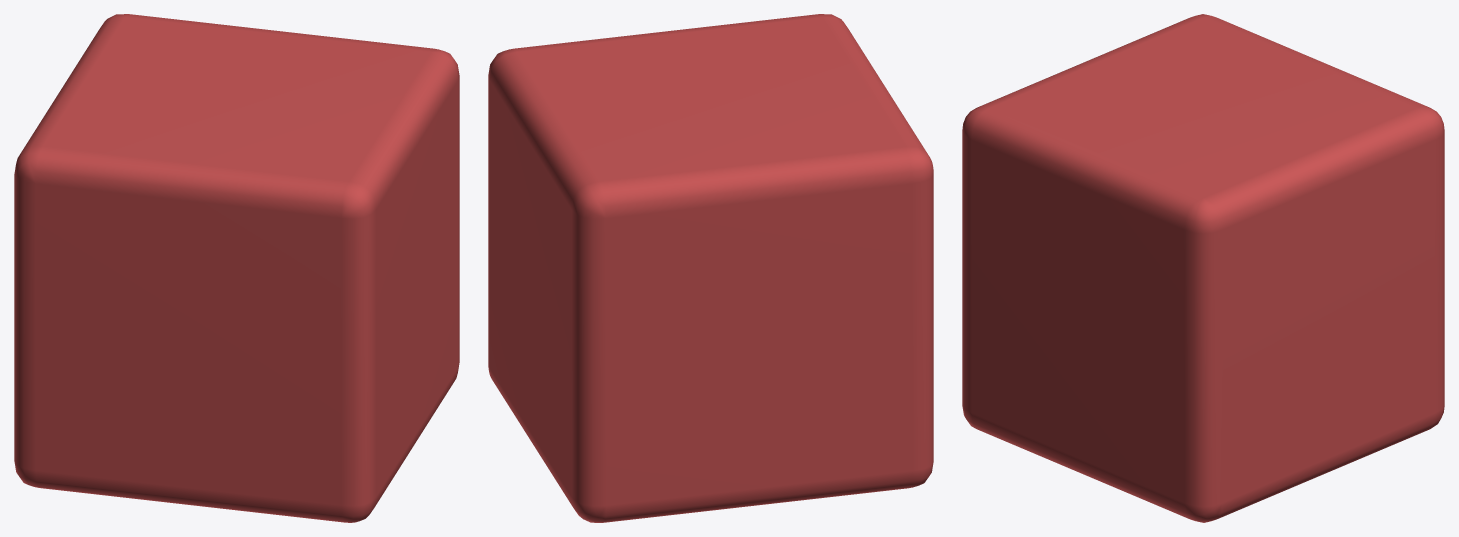
Rendered from Item05.fbx.
3 views of the same model, side by side, from view 1: azimuth 30°, elevation 25°; view 2: azimuth 150°, elevation 25°; view 3: azimuth 270°, elevation 25° (orthographic). The views are drawn at different scales.
Visible parts, largest first — view 1: Item03:Item05; view 2: Item03:Item05; view 3: Item03:Item05.
Part boxes in pixels (x1,y1,x2,y2): Item03:Item05: [14, 14, 459, 522]; Item03:Item05: [488, 14, 933, 522]; Item03:Item05: [962, 14, 1444, 522].
Bounding box in the file's own units: 0.194 × 0.1426 × 0.194.
